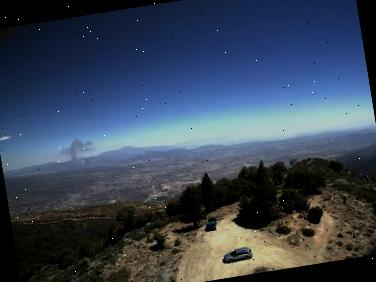smoke: (54, 132, 99, 172)
